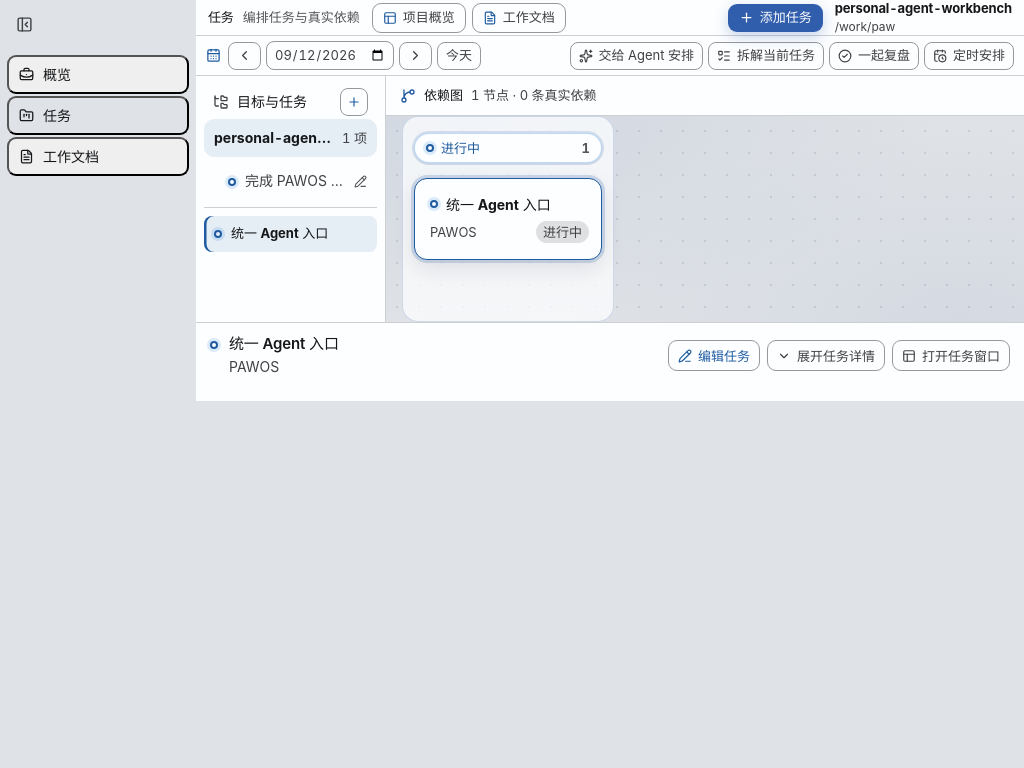
PAWOS native Apps › opens explicit editors for the selected task and live goal without treating selection as a window launch
Click the button "编辑任务". click: click(714, 356)
box: [668,340,760,371]
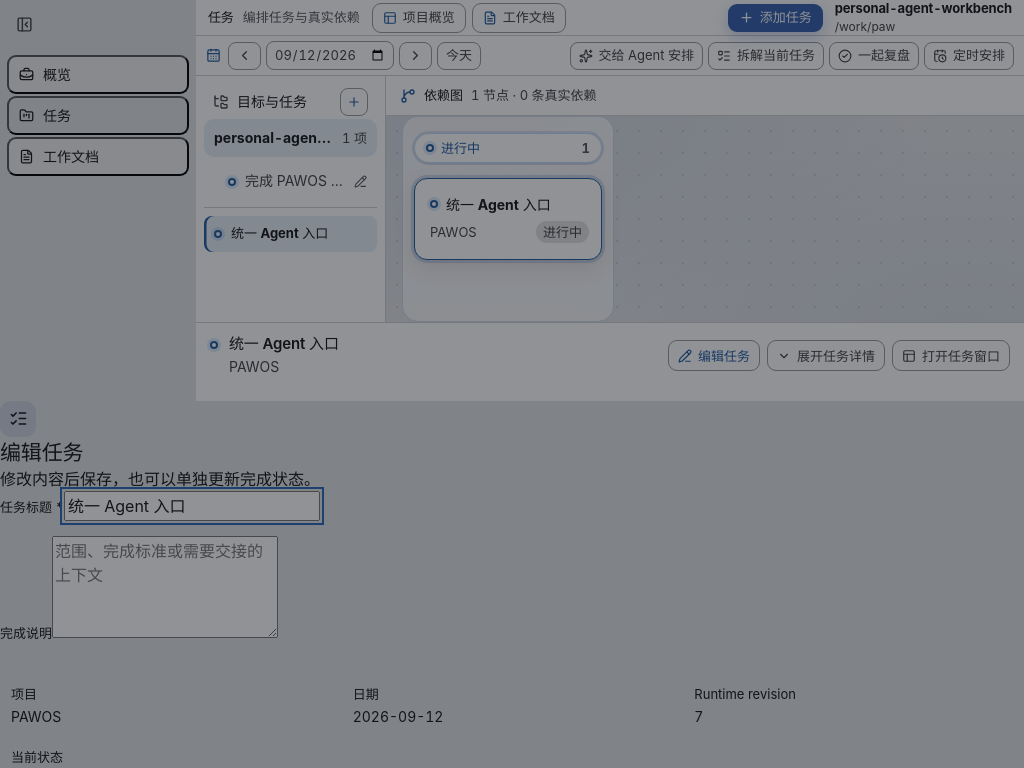
Expected: the heading "编辑任务" is shown, [0,440,84,464]
Expected: the field labelled "任务标题" holds "统一 Agent 入口", [64,490,320,520]
Press Escape
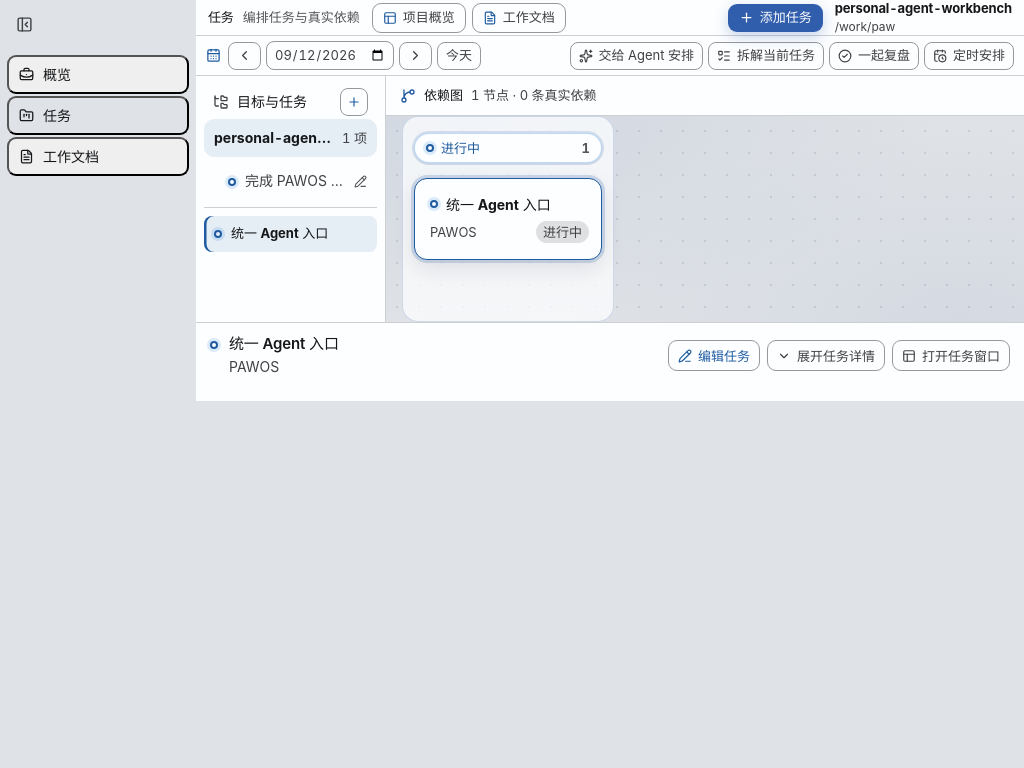
Click the button with aria-label "编辑目标：完成 PAWOS 前端迁移". click: click(290, 182)
box: [204,165,377,199]
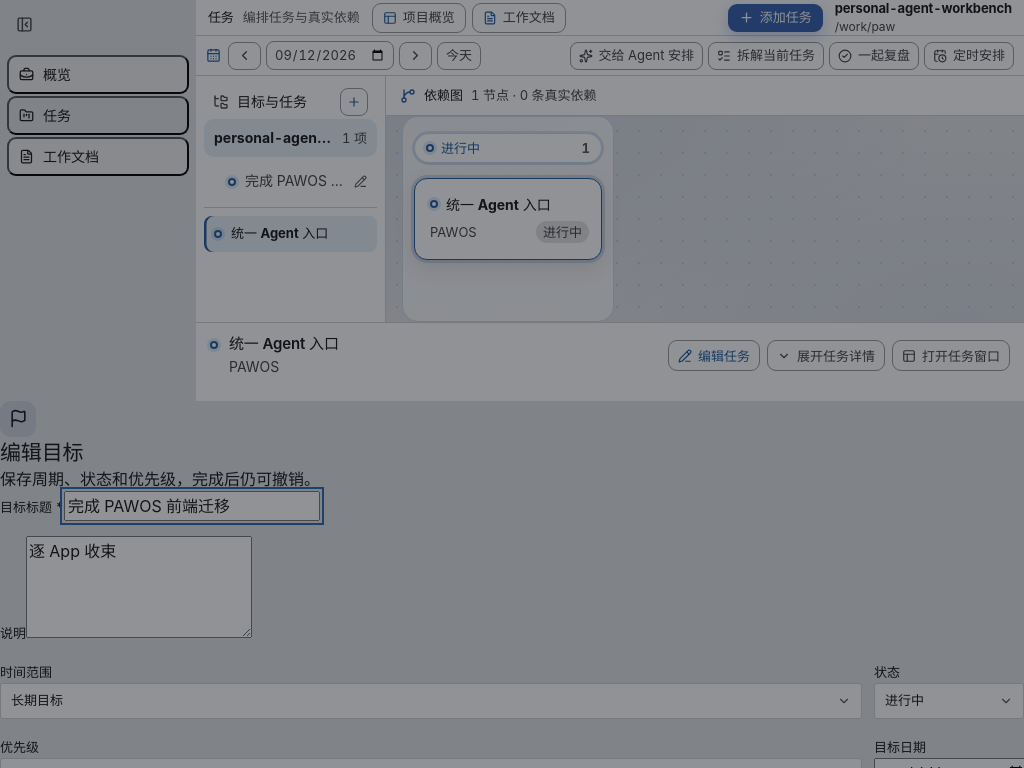
Expected: the heading "编辑目标" is shown, [0,440,84,464]
Expected: the field labelled "目标标题" holds "完成 PAWOS 前端迁移", [64,490,320,520]
